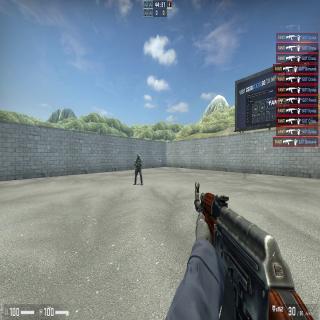CT-Body: (134, 152, 142, 185)
CT-Head: (137, 154, 140, 160)
